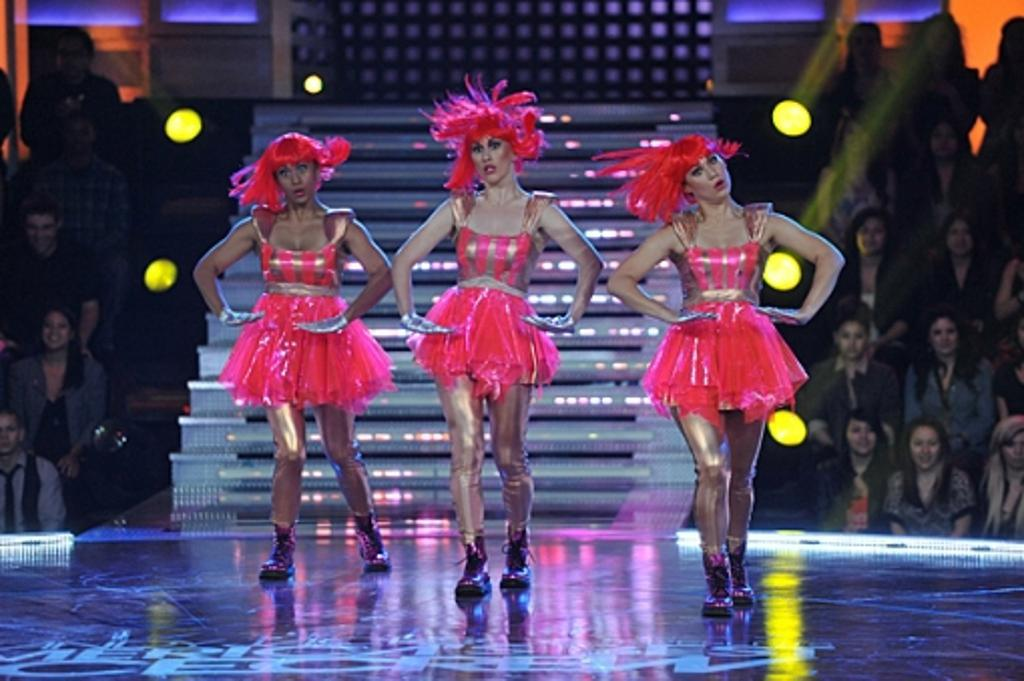face: (687, 152, 733, 197), (471, 135, 510, 181), (279, 164, 315, 203), (911, 429, 941, 466), (929, 21, 955, 58), (849, 418, 874, 455), (851, 27, 876, 63), (29, 215, 54, 250), (858, 220, 883, 252), (842, 324, 864, 359), (62, 46, 88, 75), (932, 320, 955, 352), (932, 129, 956, 159), (1004, 433, 1024, 466), (949, 223, 971, 253), (44, 315, 66, 344), (72, 122, 91, 153), (847, 126, 867, 154), (1, 416, 18, 447)
